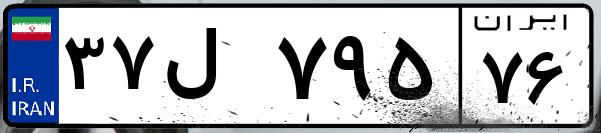3: (57, 26, 110, 100)
5: (385, 28, 445, 110)
6: (525, 38, 570, 115)
7: (270, 28, 330, 110), (475, 38, 525, 113), (110, 28, 158, 98)
9: (330, 28, 385, 110)
ل: (158, 20, 270, 120)
